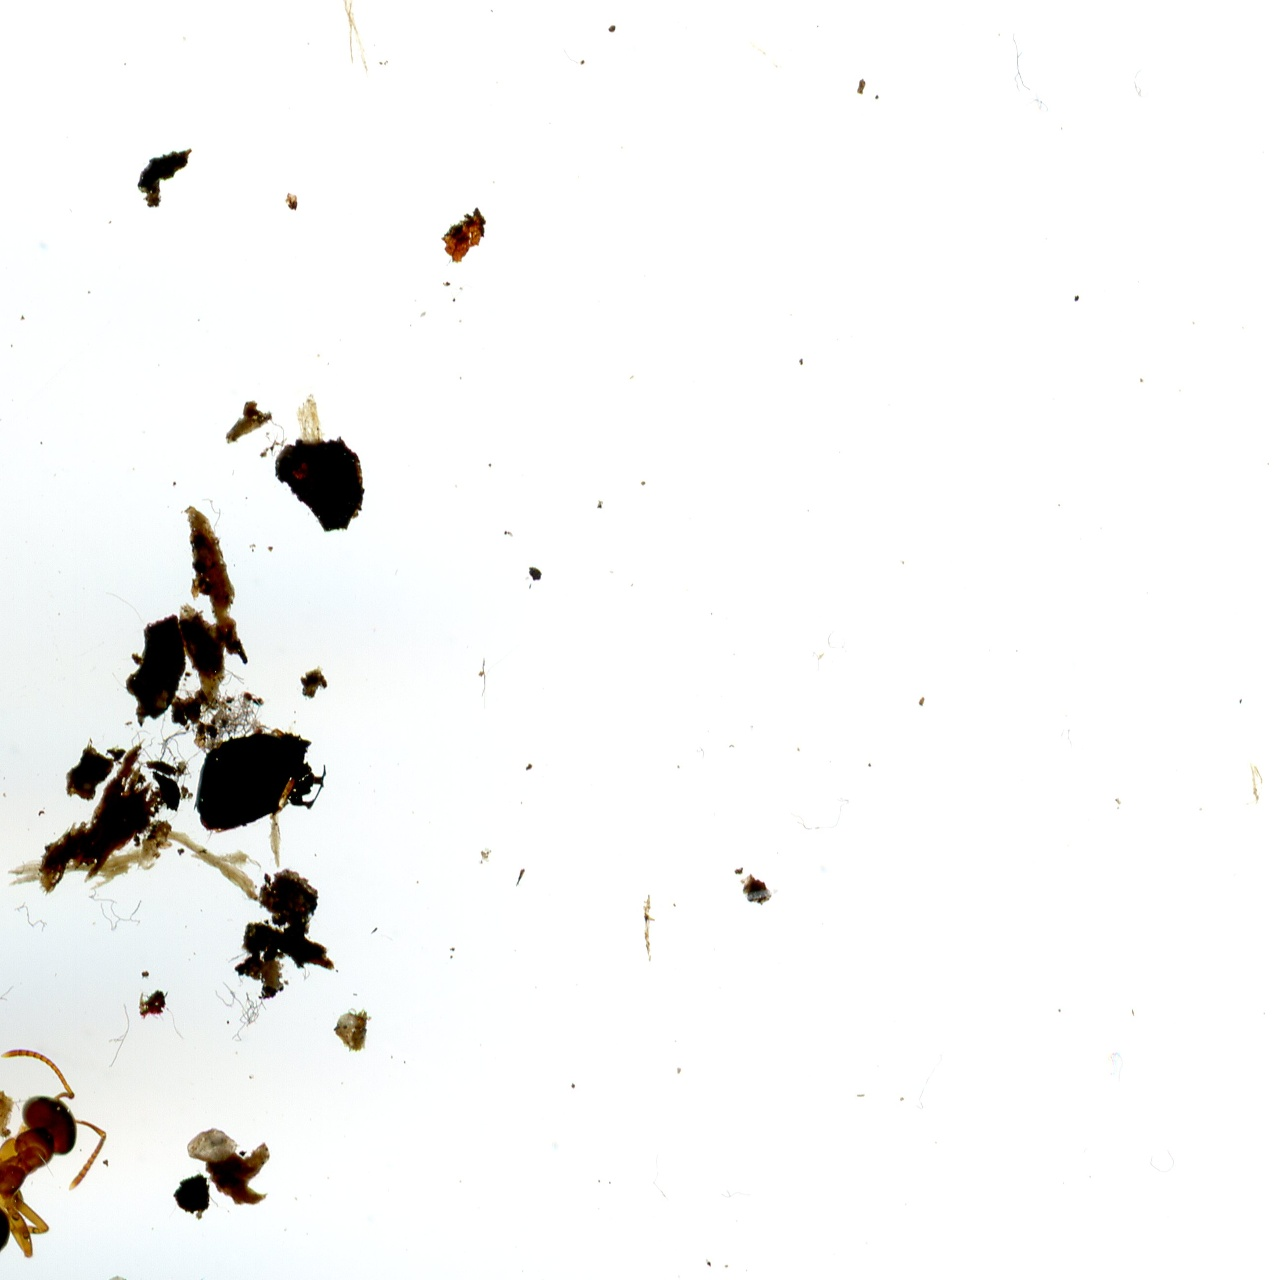arthropod: (0, 1027, 148, 1280)
